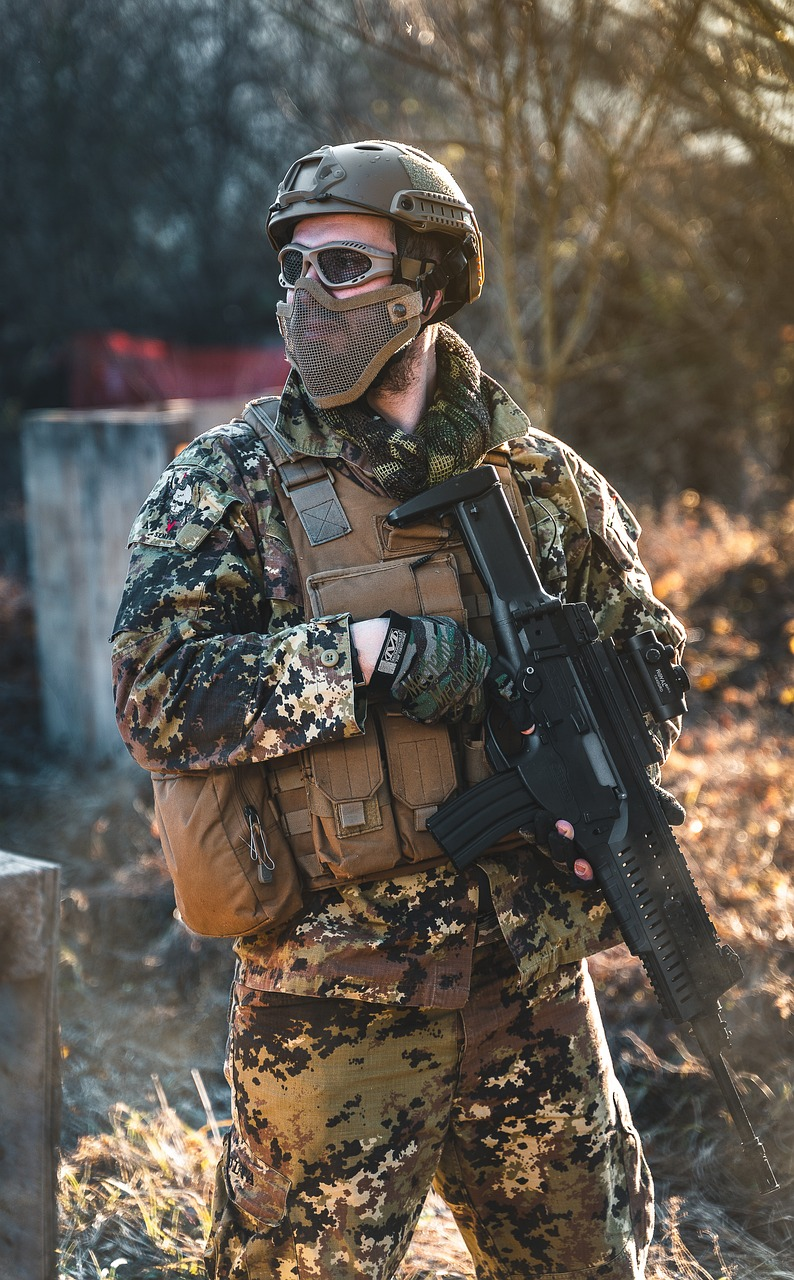gun: (376, 456, 785, 1202)
